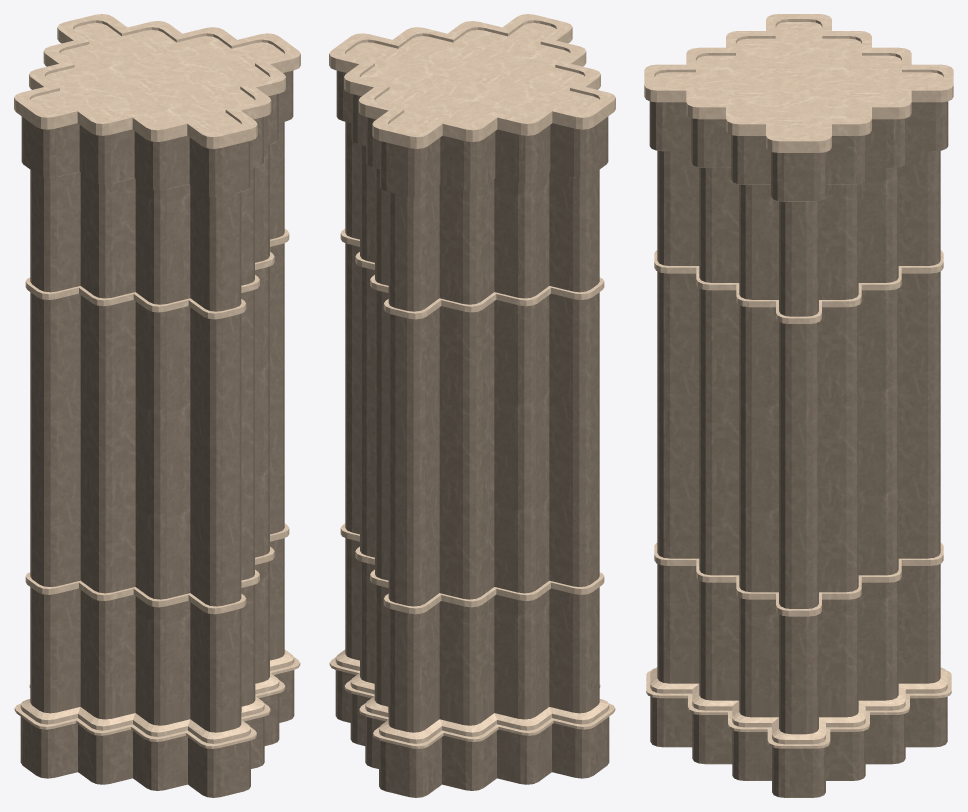
Rendered from Pillar.fbx.
3 views of the same model, side by side, from view 1: azimuth 30°, elevation 25°; view 2: azimuth 150°, elevation 25°; view 3: azimuth 270°, elevation 25° (orthographic).
Parts seen in each view (by area): view 1: Pillar.001; view 2: Pillar.001; view 3: Pillar.001.
Boxes of the visible parts, x1,y1,x2,y2 form: Pillar.001: [14, 14, 300, 797]; Pillar.001: [329, 14, 615, 797]; Pillar.001: [644, 14, 953, 797].
Size of the model in its own units: 151 by 365 by 155.
